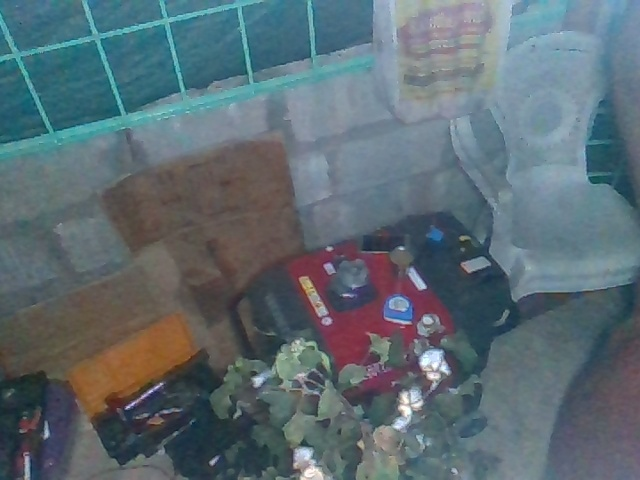cotton: (390, 387, 430, 430), (290, 441, 328, 480), (417, 348, 453, 388)
